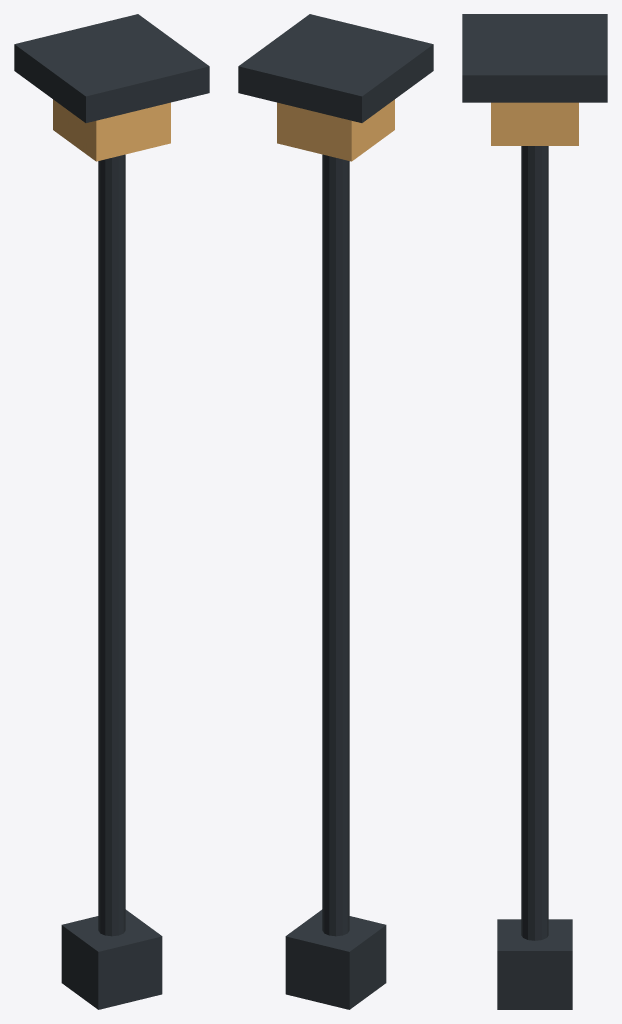
File: estate-lamp.glb
3 renders of one model, left to right at view 1: azimuth 30°, elevation 25°; view 2: azimuth 150°, elevation 25°; view 3: azimuth 270°, elevation 25°, orthographic.
Visible parts, largest first — view 1: Pole, Lantern canopy, Base, Lantern diffuser; view 2: Pole, Lantern canopy, Base, Lantern diffuser; view 3: Pole, Lantern canopy, Base, Lantern diffuser.
Boxes of the visible parts, box(x1,y1,x2,y2) form: Pole: box(98, 154, 125, 936); Lantern canopy: box(14, 14, 209, 122); Base: box(61, 909, 162, 1009); Lantern diffuser: box(53, 99, 170, 161); Pole: box(322, 154, 349, 936); Lantern canopy: box(238, 14, 433, 122); Base: box(285, 909, 386, 1009); Lantern diffuser: box(277, 99, 394, 161); Pole: box(521, 146, 548, 940); Lantern canopy: box(462, 14, 607, 102); Base: box(497, 919, 572, 1009); Lantern diffuser: box(491, 102, 578, 145).
Size of the model in its own units: 0.58 by 4.18 by 0.58.
